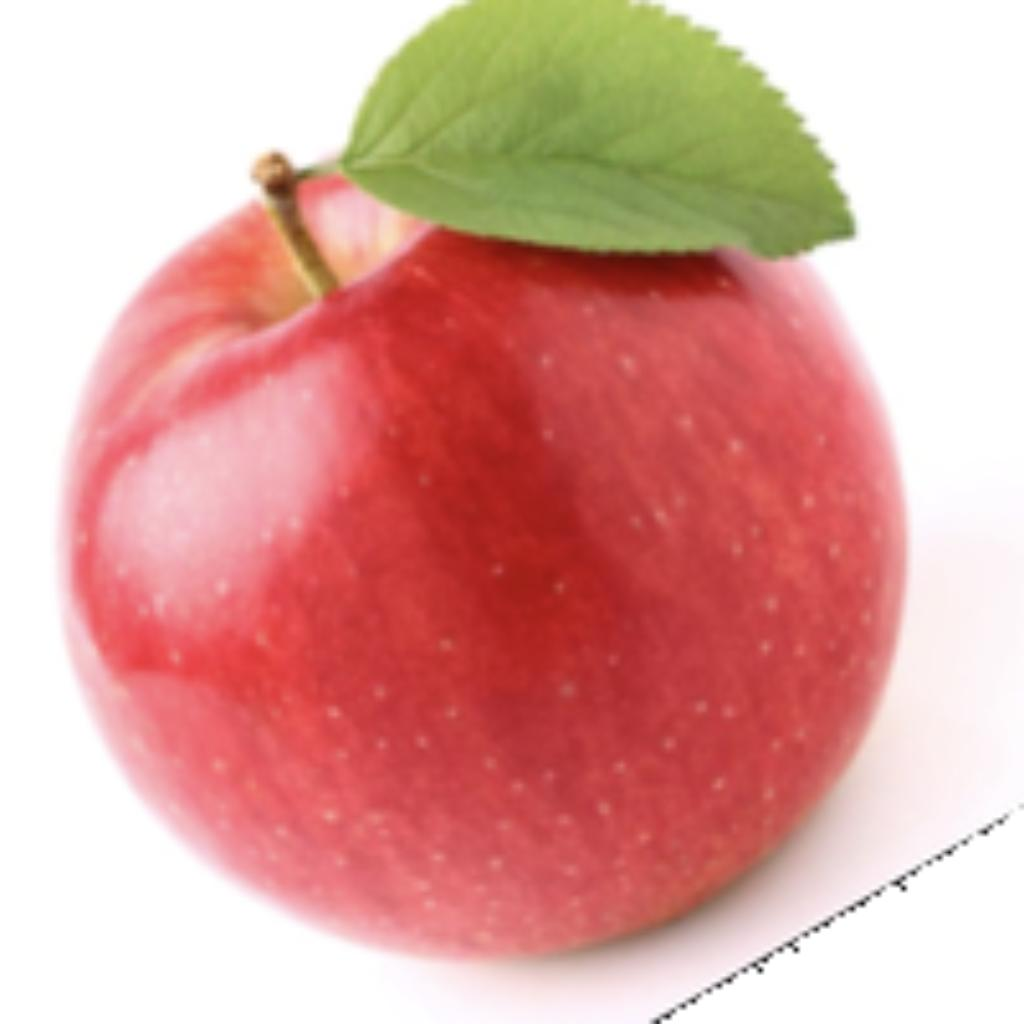apple: (46, 0, 1004, 1019)
